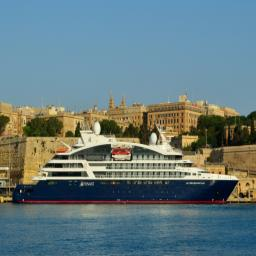cruises: (14, 121, 243, 209)
